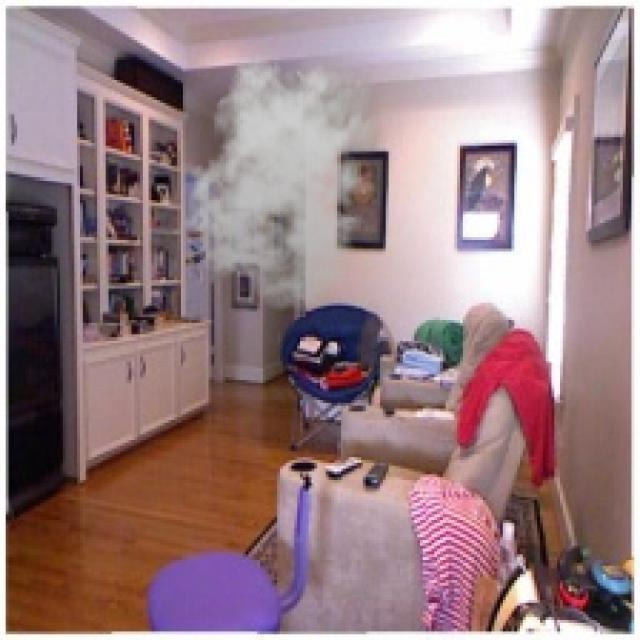Smoke: (182, 48, 388, 312)
